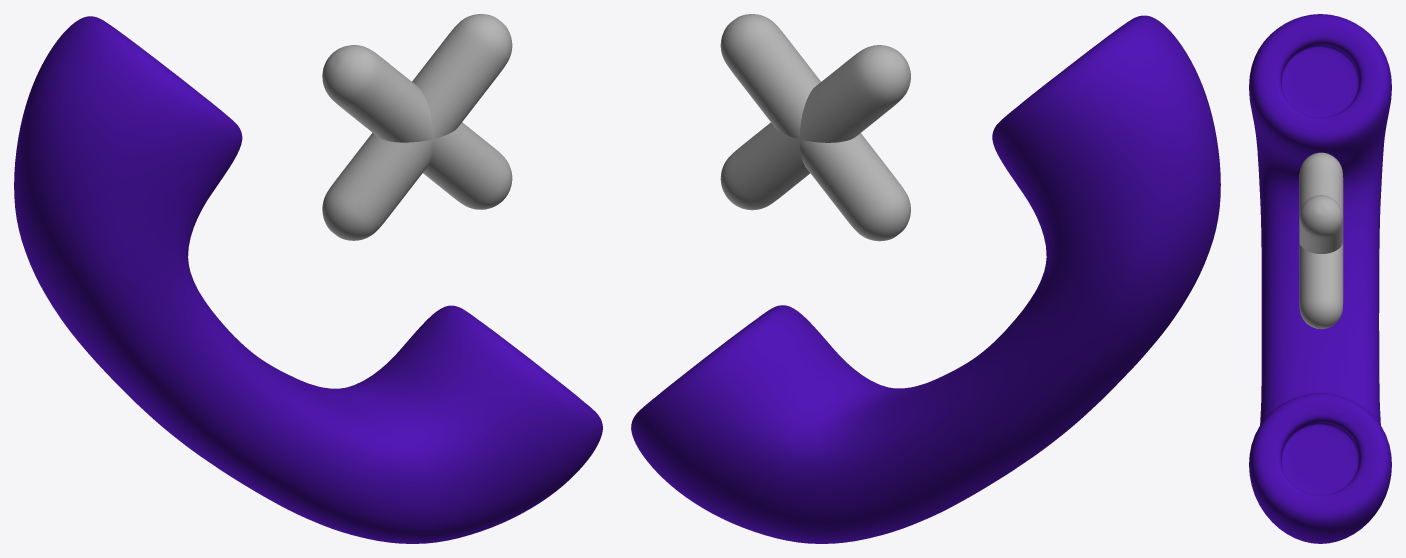
Rendered from call-end.glb.
3 views of the same model, side by side, from view 1: azimuth 30°, elevation 25°; view 2: azimuth 150°, elevation 25°; view 3: azimuth 270°, elevation 25° (orthographic). The views are drawn at different scales.
Parts seen in each view (by area): view 1: Phone End; view 2: Phone End; view 3: Phone End.
Part boxes in pixels (x1=…): Phone End: x1=14, y1=14, x2=602, y2=543; Phone End: x1=631, y1=14, x2=1220, y2=543; Phone End: x1=1249, y1=14, x2=1391, y2=543.
Size of the model in its own units: 1.77 by 1.77 by 0.5743.
